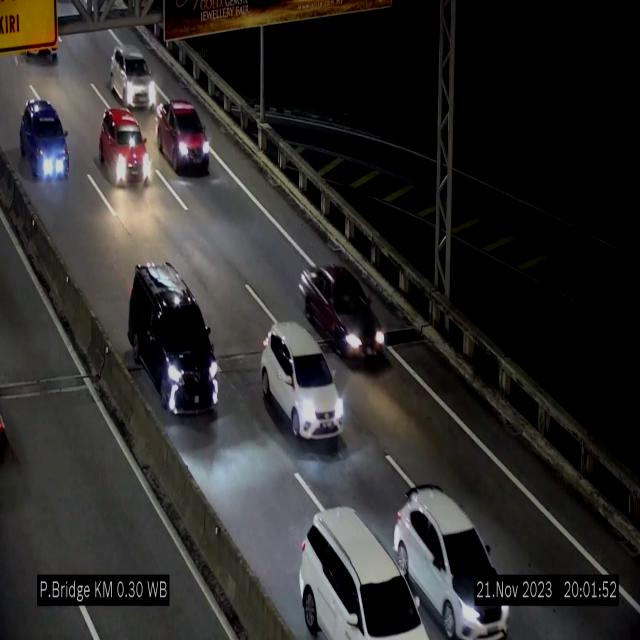Car: (297, 490, 441, 640), (392, 485, 508, 639), (127, 258, 220, 424), (261, 323, 345, 438), (300, 259, 388, 365), (19, 100, 78, 183), (100, 110, 152, 195), (158, 100, 210, 174), (111, 44, 154, 110)
